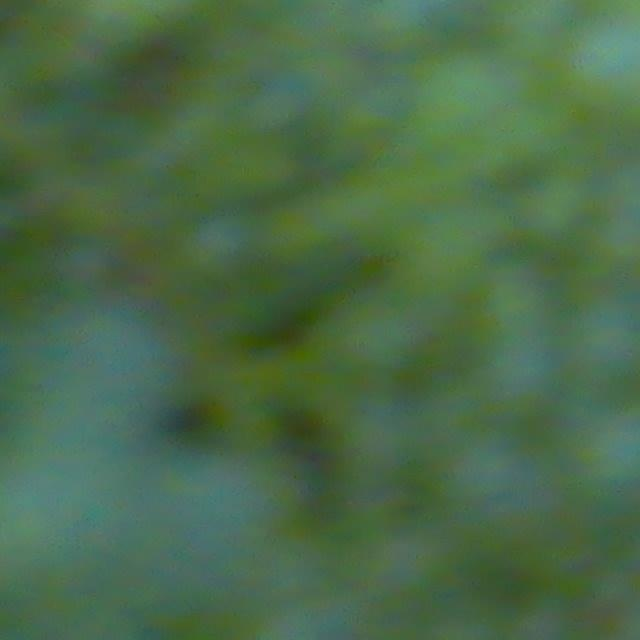SeaGrape: (564, 288, 640, 388), (571, 401, 640, 495)
